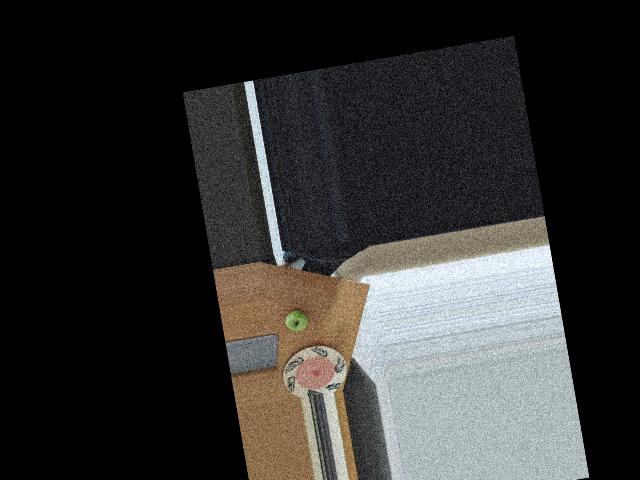apple: (283, 303, 313, 334)
